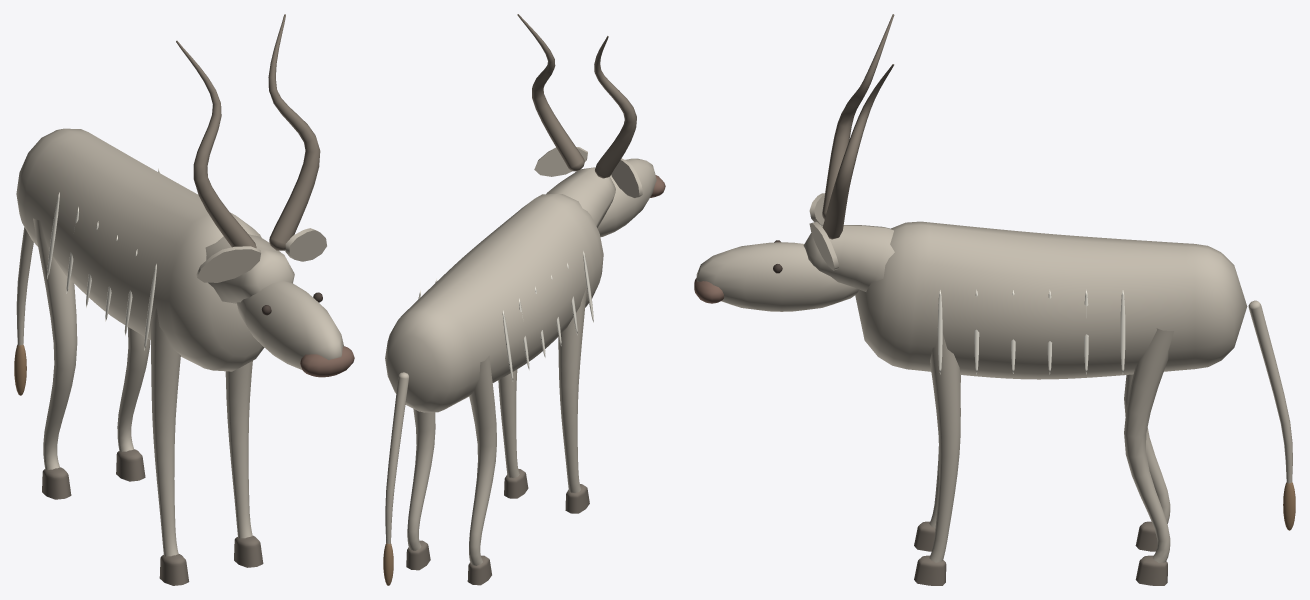
The model's file is savanna-wildlife-greater-kudu-f6e53728__6551.glb.
3 views of the same model, side by side, from view 1: azimuth 30°, elevation 25°; view 2: azimuth 150°, elevation 25°; view 3: azimuth 270°, elevation 25° (orthographic). The views are drawn at different scales.
Visible parts, largest first — view 1: greater-kudu; view 2: greater-kudu; view 3: greater-kudu.
Boxes of the visible parts, x1,y1,x2,y2 form: greater-kudu: (14, 14, 354, 585); greater-kudu: (383, 14, 665, 585); greater-kudu: (694, 14, 1295, 585).
Bounding box in the file's own units: 0.6965 × 2.86 × 2.96.
